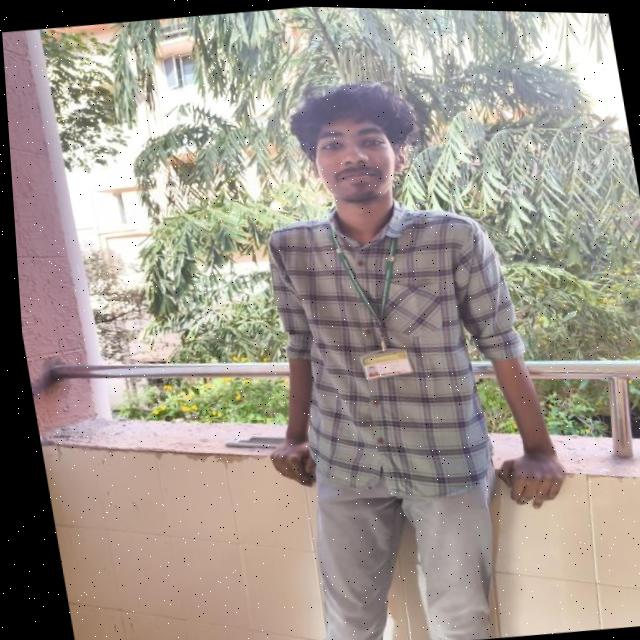id_card: (325, 217, 415, 382)
